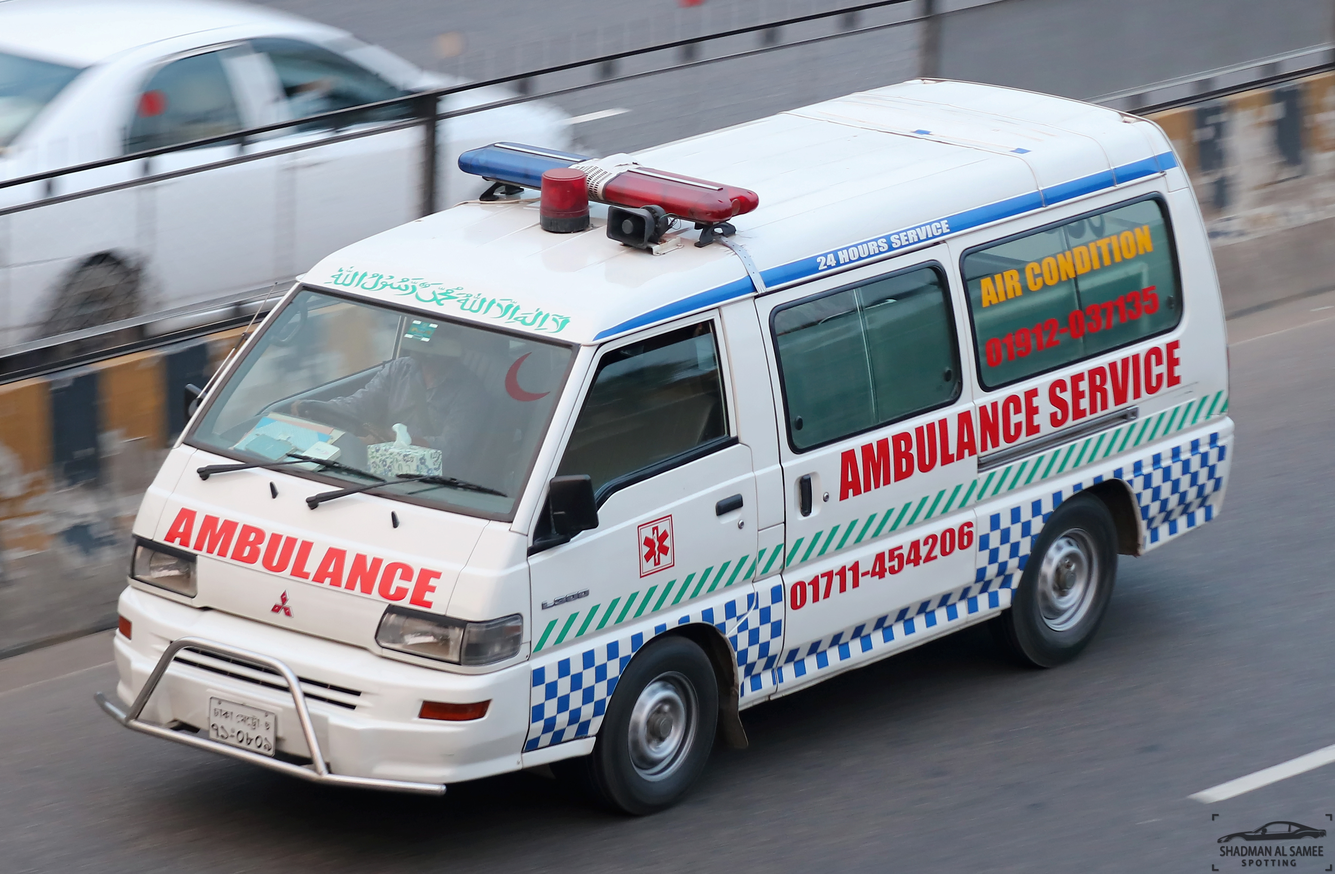Ambulance: (96, 70, 1255, 818)
